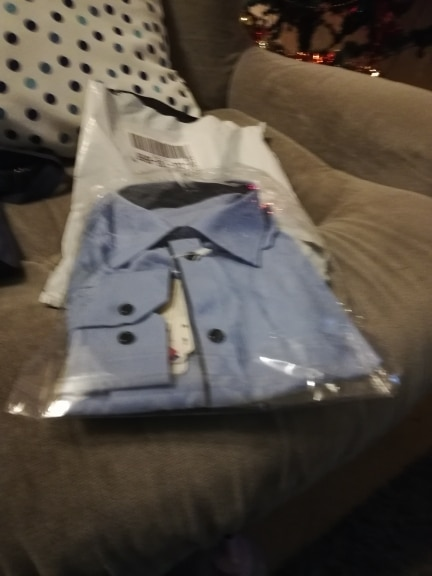shirts: (58, 175, 369, 409)
